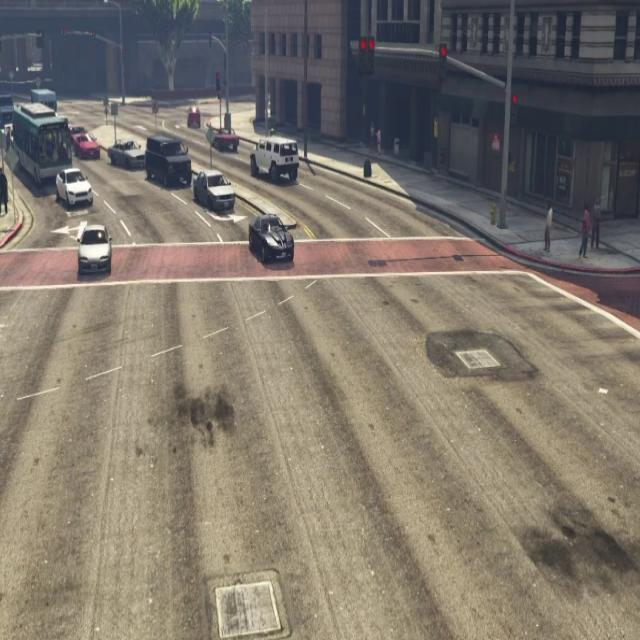Red-Signal: (500, 59, 528, 140), (429, 32, 455, 98), (356, 27, 381, 86)
